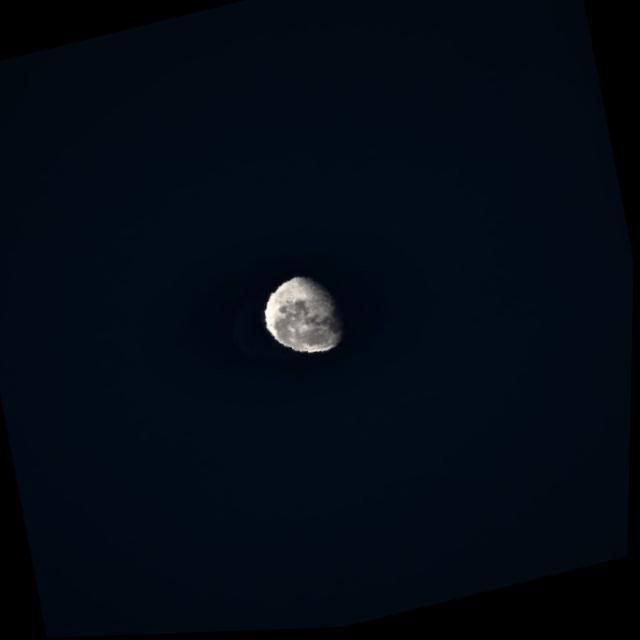moon: (241, 244, 381, 380)
